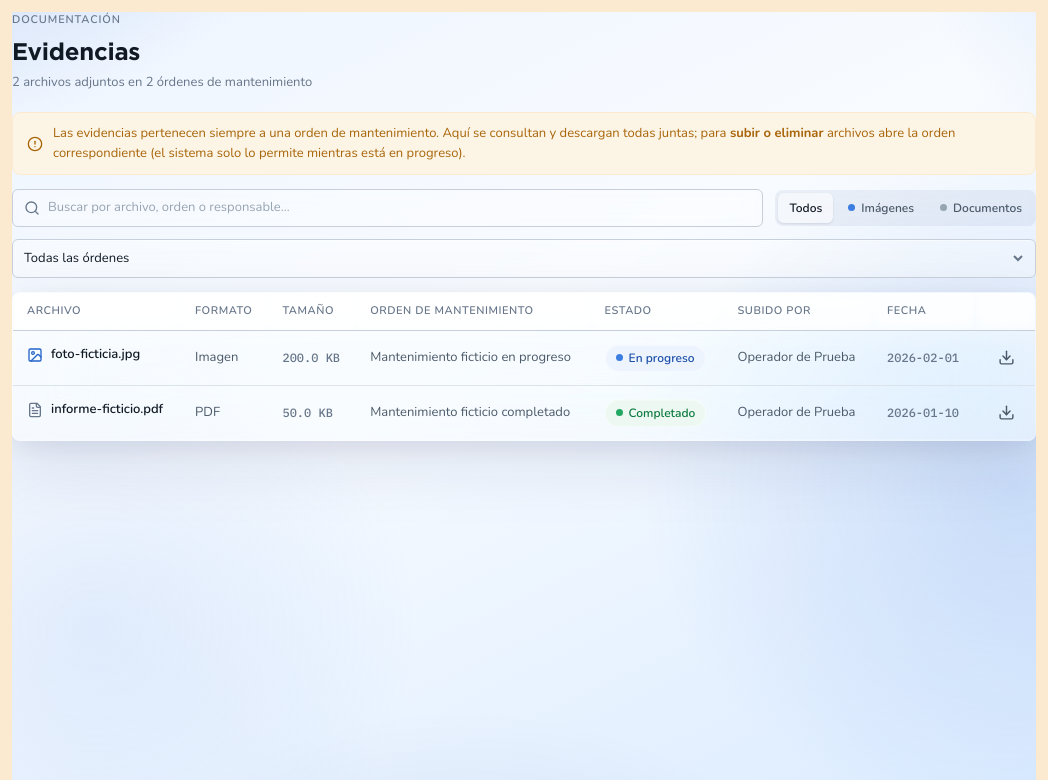
Scenario: EvidencesInfo (/evidencias) › el filtro por formato separa imágenes de documentos
expect the text "foto-ficticia.jpg" is shown: met, box [27,345,140,365]
Click the button "Documentos" at (981,208), box [929,193,1033,223]
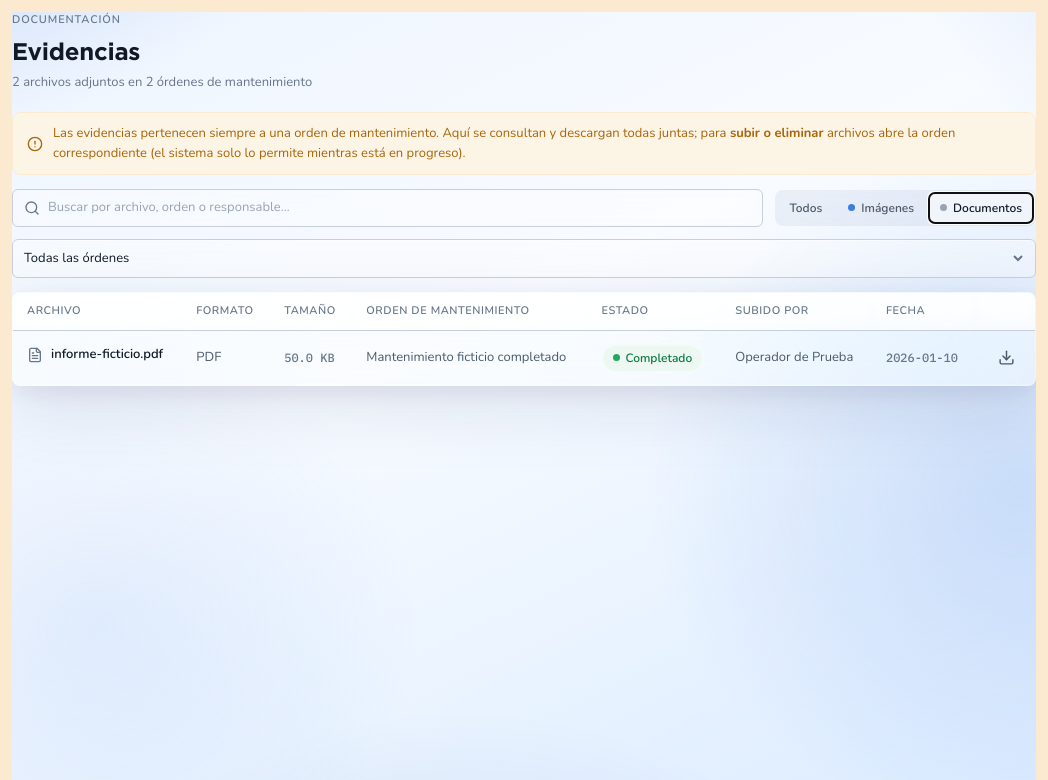
expect the text "informe-ficticio.pdf" is shown: met, box [27,345,163,365]
expect the text "foto-ficticia.jpg" is gone: met
Click the button "Imágenes" at (881,208), box [837,193,925,223]
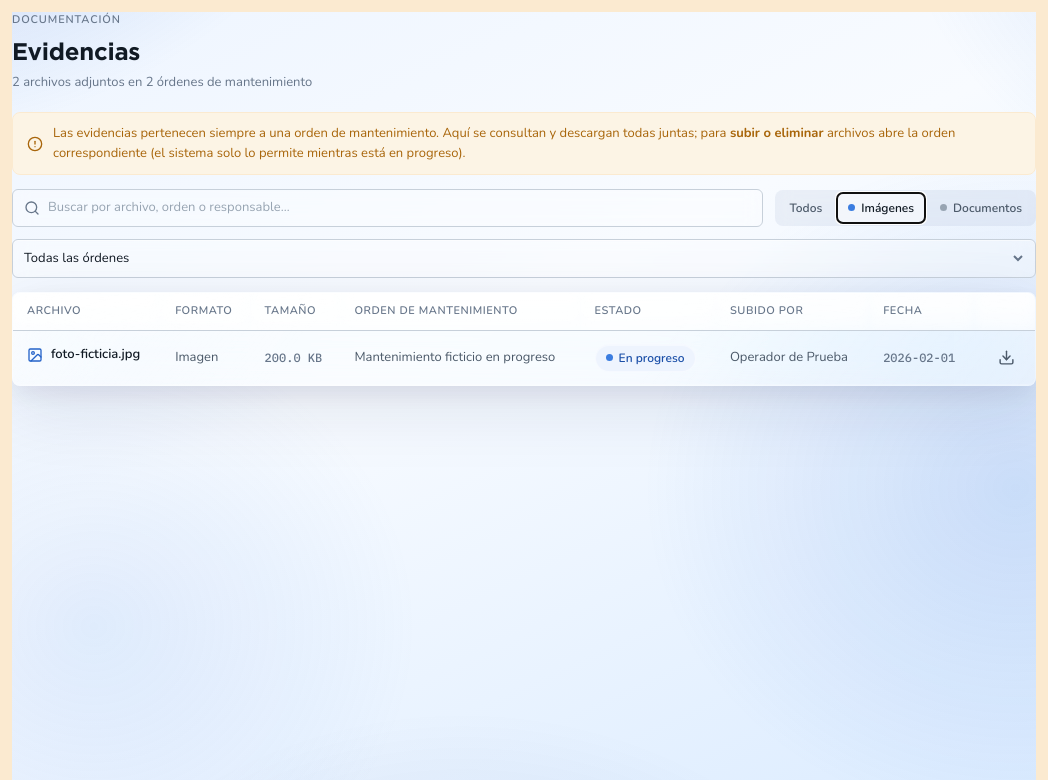
expect the text "foto-ficticia.jpg" is shown: met, box [27,345,140,365]
expect the text "informe-ficticio.pdf" is gone: met
